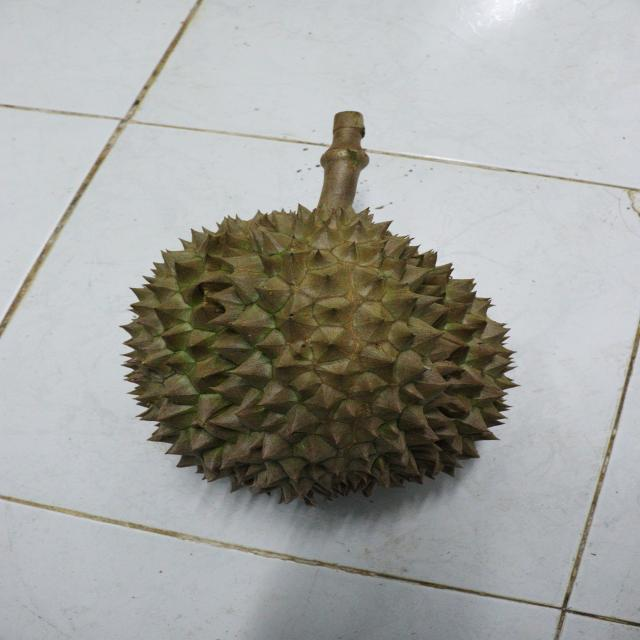mature: (118, 201, 524, 501)
